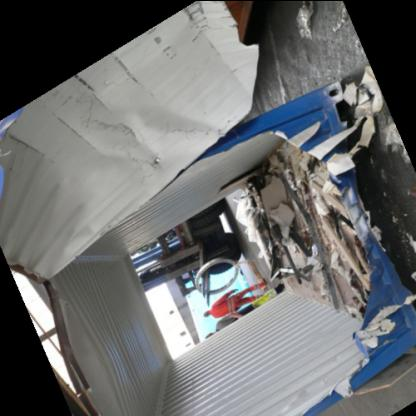Damage: (65, 70, 386, 415)
